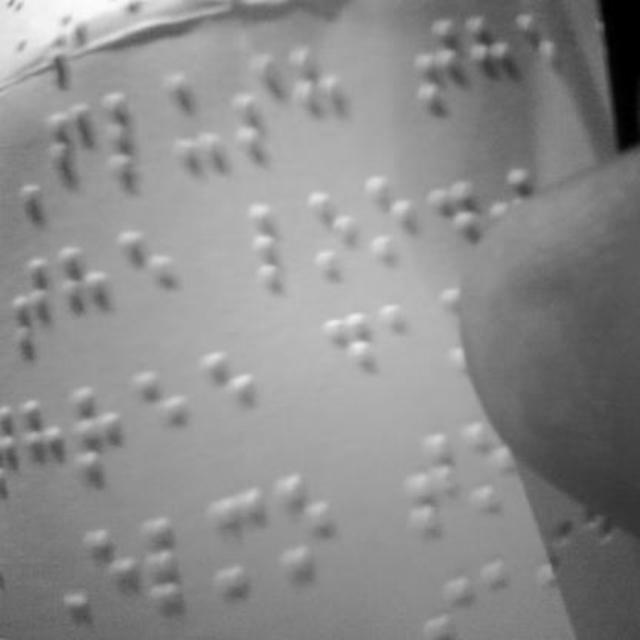braiile: (278, 468, 346, 582), (206, 482, 266, 608), (318, 304, 382, 416), (14, 390, 70, 512), (164, 66, 224, 178), (64, 239, 120, 359), (408, 420, 462, 544), (292, 38, 352, 148), (47, 94, 103, 210), (126, 218, 180, 338), (149, 508, 209, 616), (72, 386, 132, 492), (102, 82, 158, 194), (88, 512, 146, 620), (5, 246, 60, 358), (227, 51, 283, 160), (309, 176, 365, 284), (369, 170, 425, 276), (202, 339, 254, 448), (136, 361, 188, 464), (249, 196, 301, 294), (413, 15, 462, 119)
